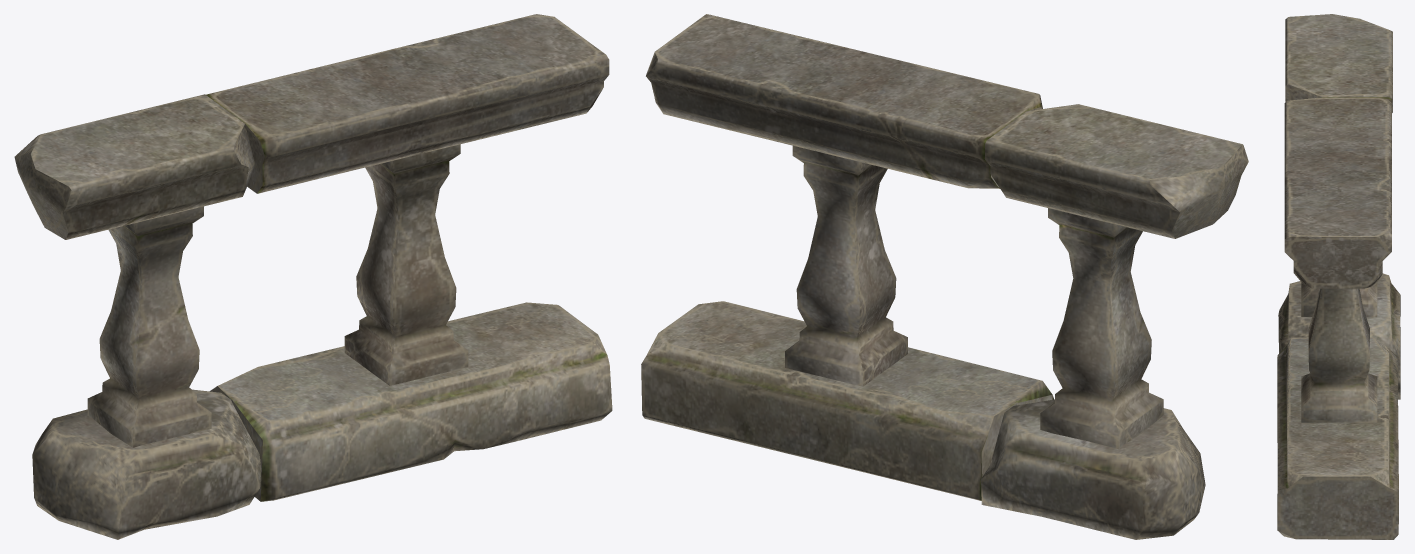
Rendered from SM_Ballustrade_Ruined_06.fbx.
The picture shows the model from 3 angles, left to right: view 1: azimuth 30°, elevation 25°; view 2: azimuth 150°, elevation 25°; view 3: azimuth 270°, elevation 25°; orthographic projection. The views are drawn at different scales.
Parts seen in each view (by area): view 1: SM_Ballustrade_Ruined_06_LOD0; view 2: SM_Ballustrade_Ruined_06_LOD0; view 3: SM_Ballustrade_Ruined_06_LOD0.
Part boxes in pixels (<box>): SM_Ballustrade_Ruined_06_LOD0: <box>14,14,612,539</box>; SM_Ballustrade_Ruined_06_LOD0: <box>641,14,1248,539</box>; SM_Ballustrade_Ruined_06_LOD0: <box>1277,14,1400,539</box>.
Size of what is drawn, in the model's own units: 161 by 101 by 37.28.
